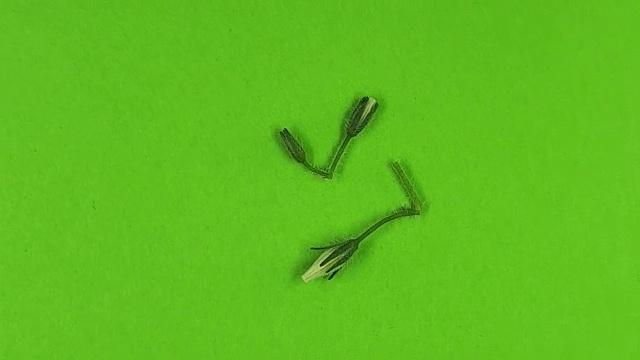Flower Bud: (301, 240, 356, 284), (345, 95, 379, 136), (279, 127, 308, 164)
